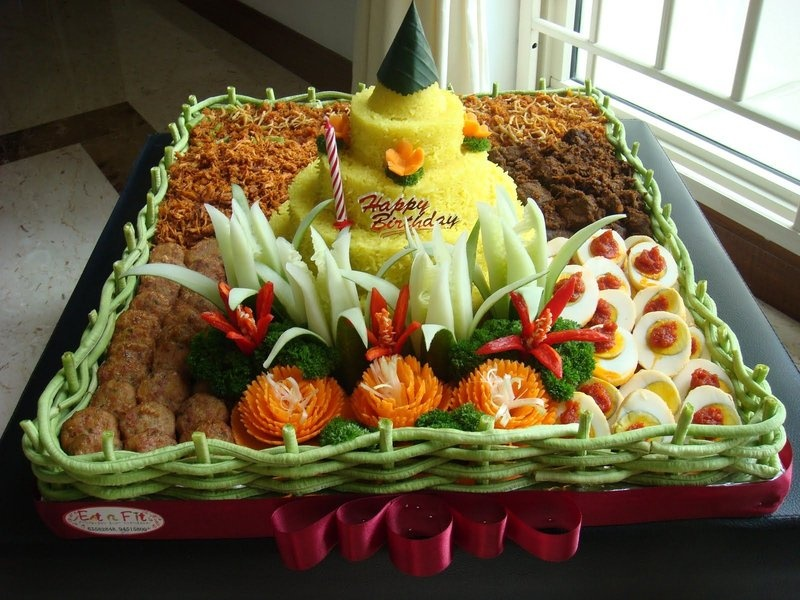tumpeng: (329, 11, 482, 122)
